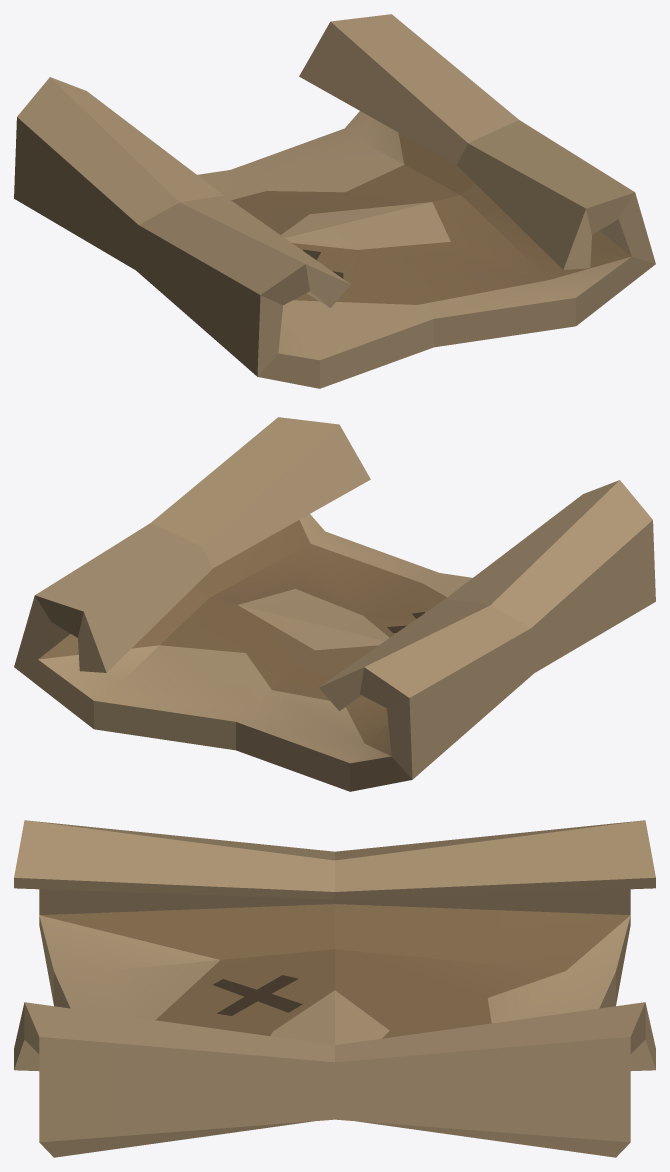
File: SM_Item_Map_02.glb
3 renders of one model, top to bottom at view 1: azimuth 30°, elevation 25°; view 2: azimuth 150°, elevation 25°; view 3: azimuth 270°, elevation 25°, orthographic. The views are drawn at different scales.
Parts seen in each view (by area): view 1: SM_Item_Map_02; view 2: SM_Item_Map_02; view 3: SM_Item_Map_02.
Part boxes in pixels (bbox=[...]): SM_Item_Map_02: bbox=[14, 14, 655, 388]; SM_Item_Map_02: bbox=[14, 417, 655, 791]; SM_Item_Map_02: bbox=[14, 820, 655, 1157].
Size of the model in its own units: 0.0038 by 0.00128 by 0.00436.
